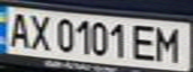0: (51, 16, 75, 53), (90, 19, 109, 56)
1: (109, 20, 130, 60), (72, 17, 93, 55)
A: (3, 9, 33, 48)
E: (127, 21, 160, 62)
M: (151, 24, 187, 64)
X: (24, 11, 54, 52)
